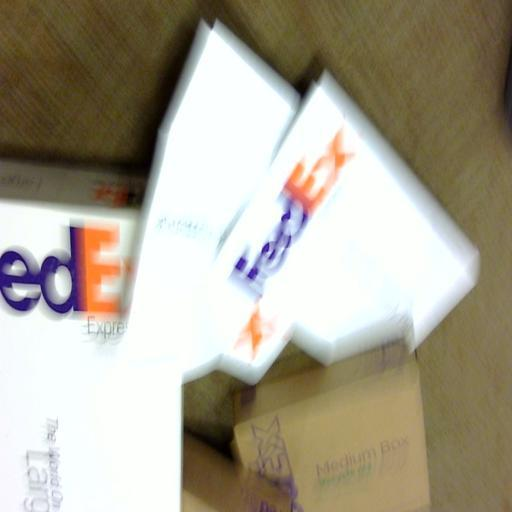Amazon: (218, 100, 471, 376), (0, 189, 178, 512)
